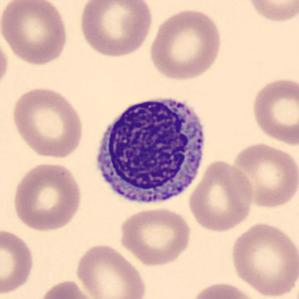Monocyte: (87, 90, 211, 212)
RBC: (147, 7, 224, 82), (9, 85, 86, 160), (228, 220, 298, 298), (10, 161, 85, 232), (187, 158, 256, 233), (0, 0, 71, 67), (117, 205, 193, 267), (229, 141, 298, 209), (76, 0, 154, 58), (73, 242, 148, 299), (250, 74, 298, 146), (0, 226, 36, 296), (186, 280, 262, 299), (36, 277, 99, 299), (243, 0, 299, 24), (0, 34, 10, 91)
